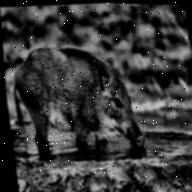boar: (3, 25, 157, 171)
